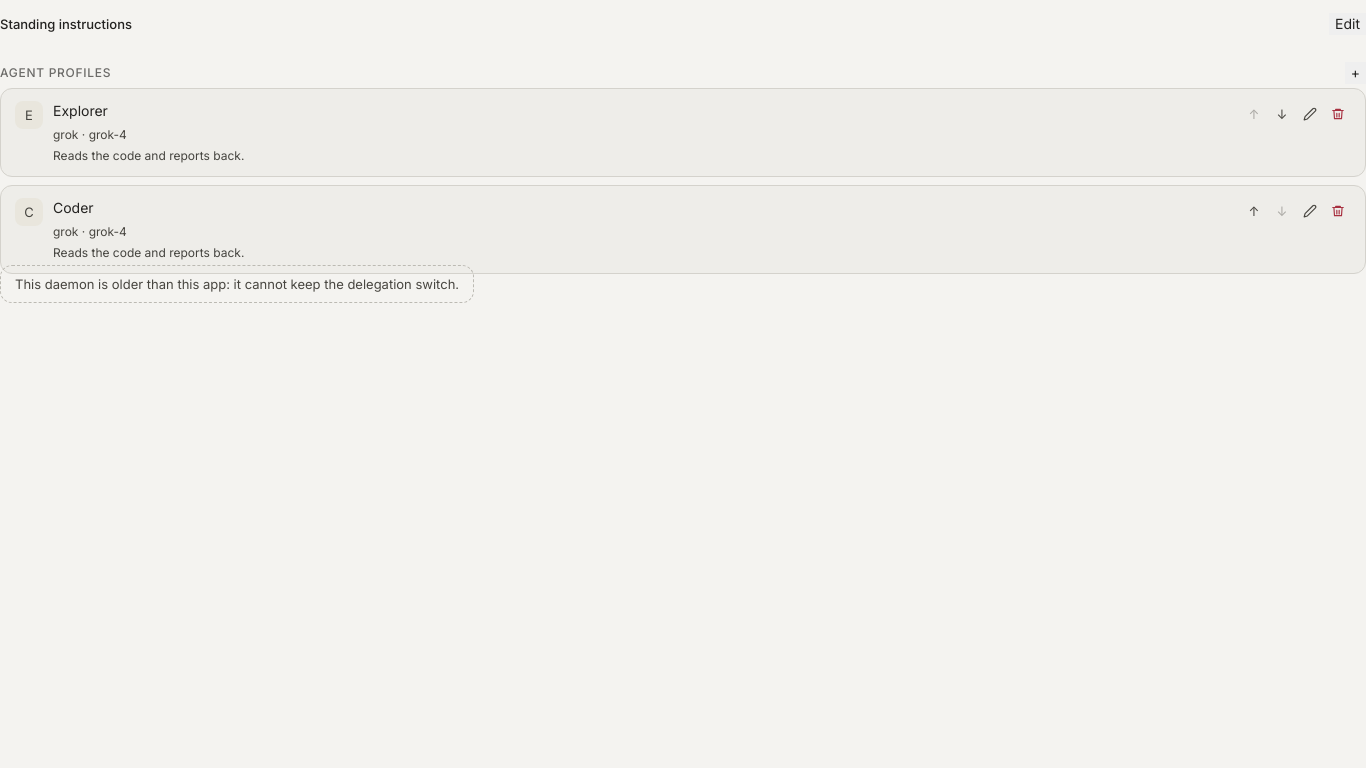
Scenario: Settings agents panel — load, locks and refetch › applies a refetch after a write, so a restarted daemon's store replaces the stale panel
Step 1. Click the button named "Move Coder up" → coordinates (1254, 211), box 1241,198 -> 1267,224
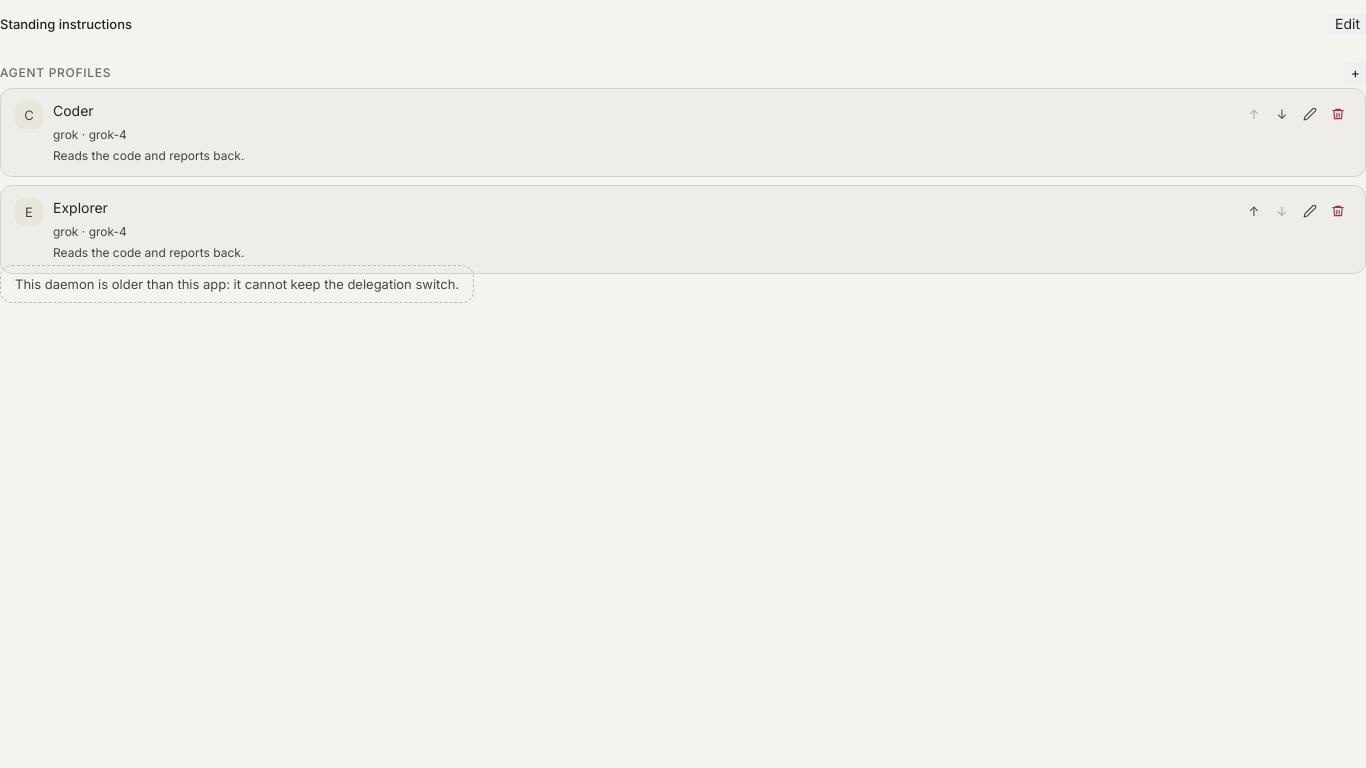
Step 2. Click the button "Edit" → coordinates (1348, 24), box 1329,13 -> 1365,35
Wait 4200 ms
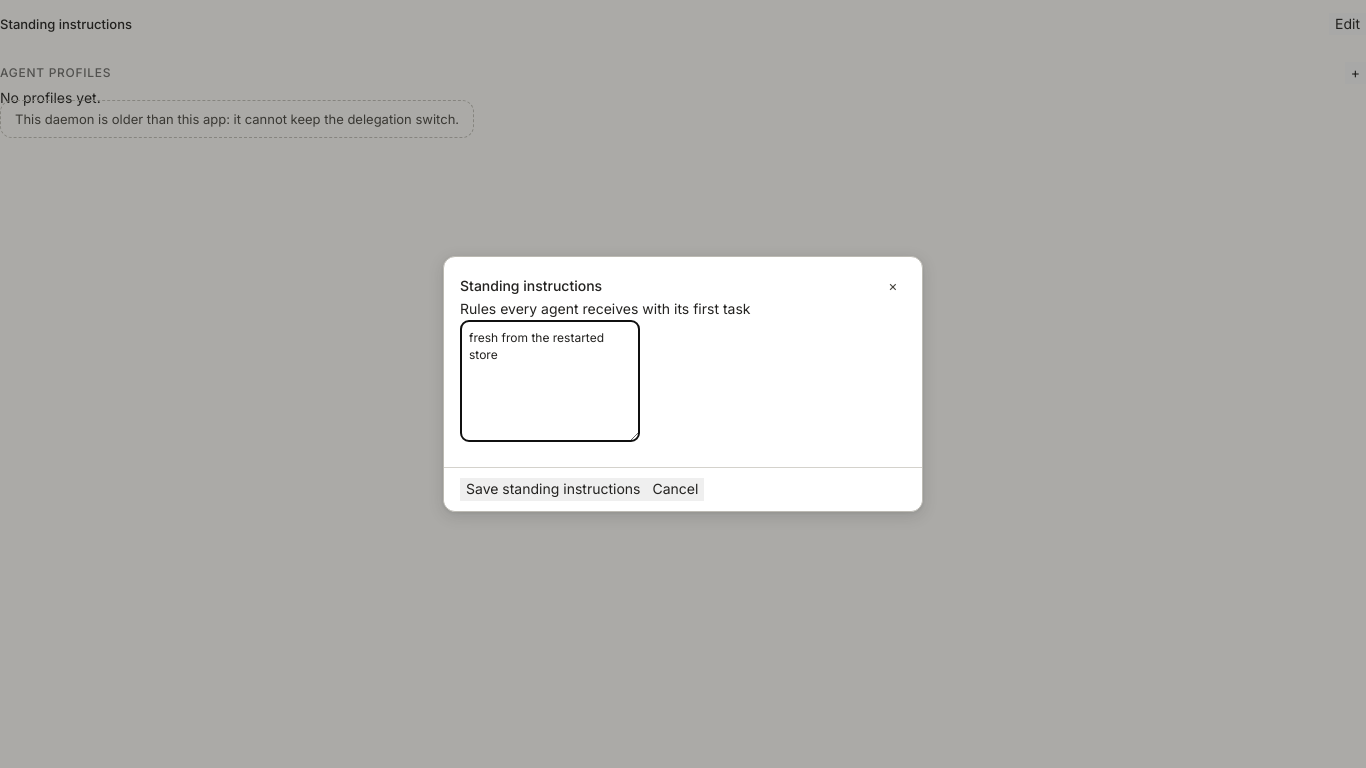
Now the text box named "Standing instructions for every agent" holds "fresh from the restarted store", box 460,320 -> 640,442
